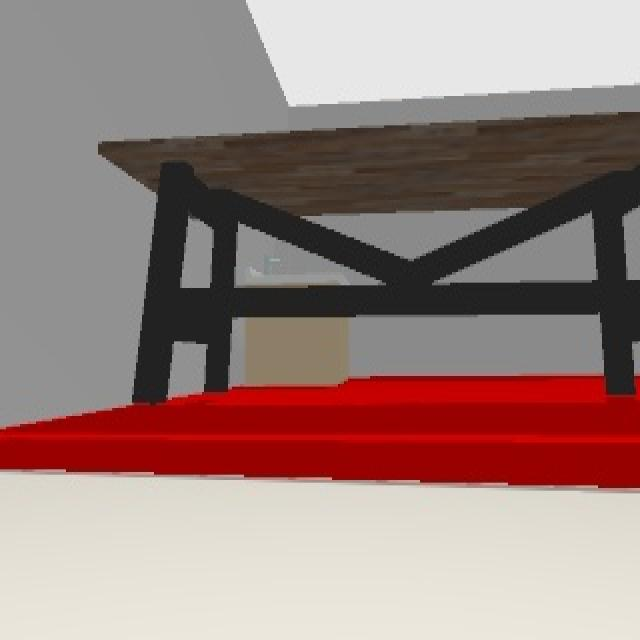dining: (96, 111, 640, 403)
